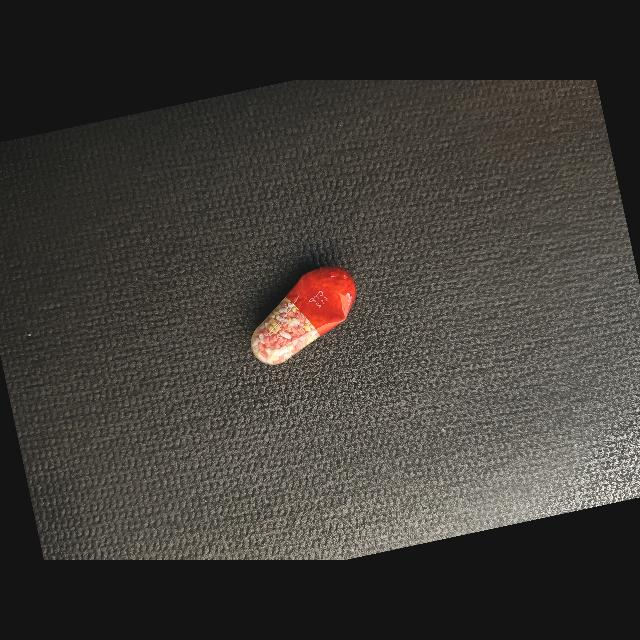Defective Capsule: (251, 266, 356, 365)
